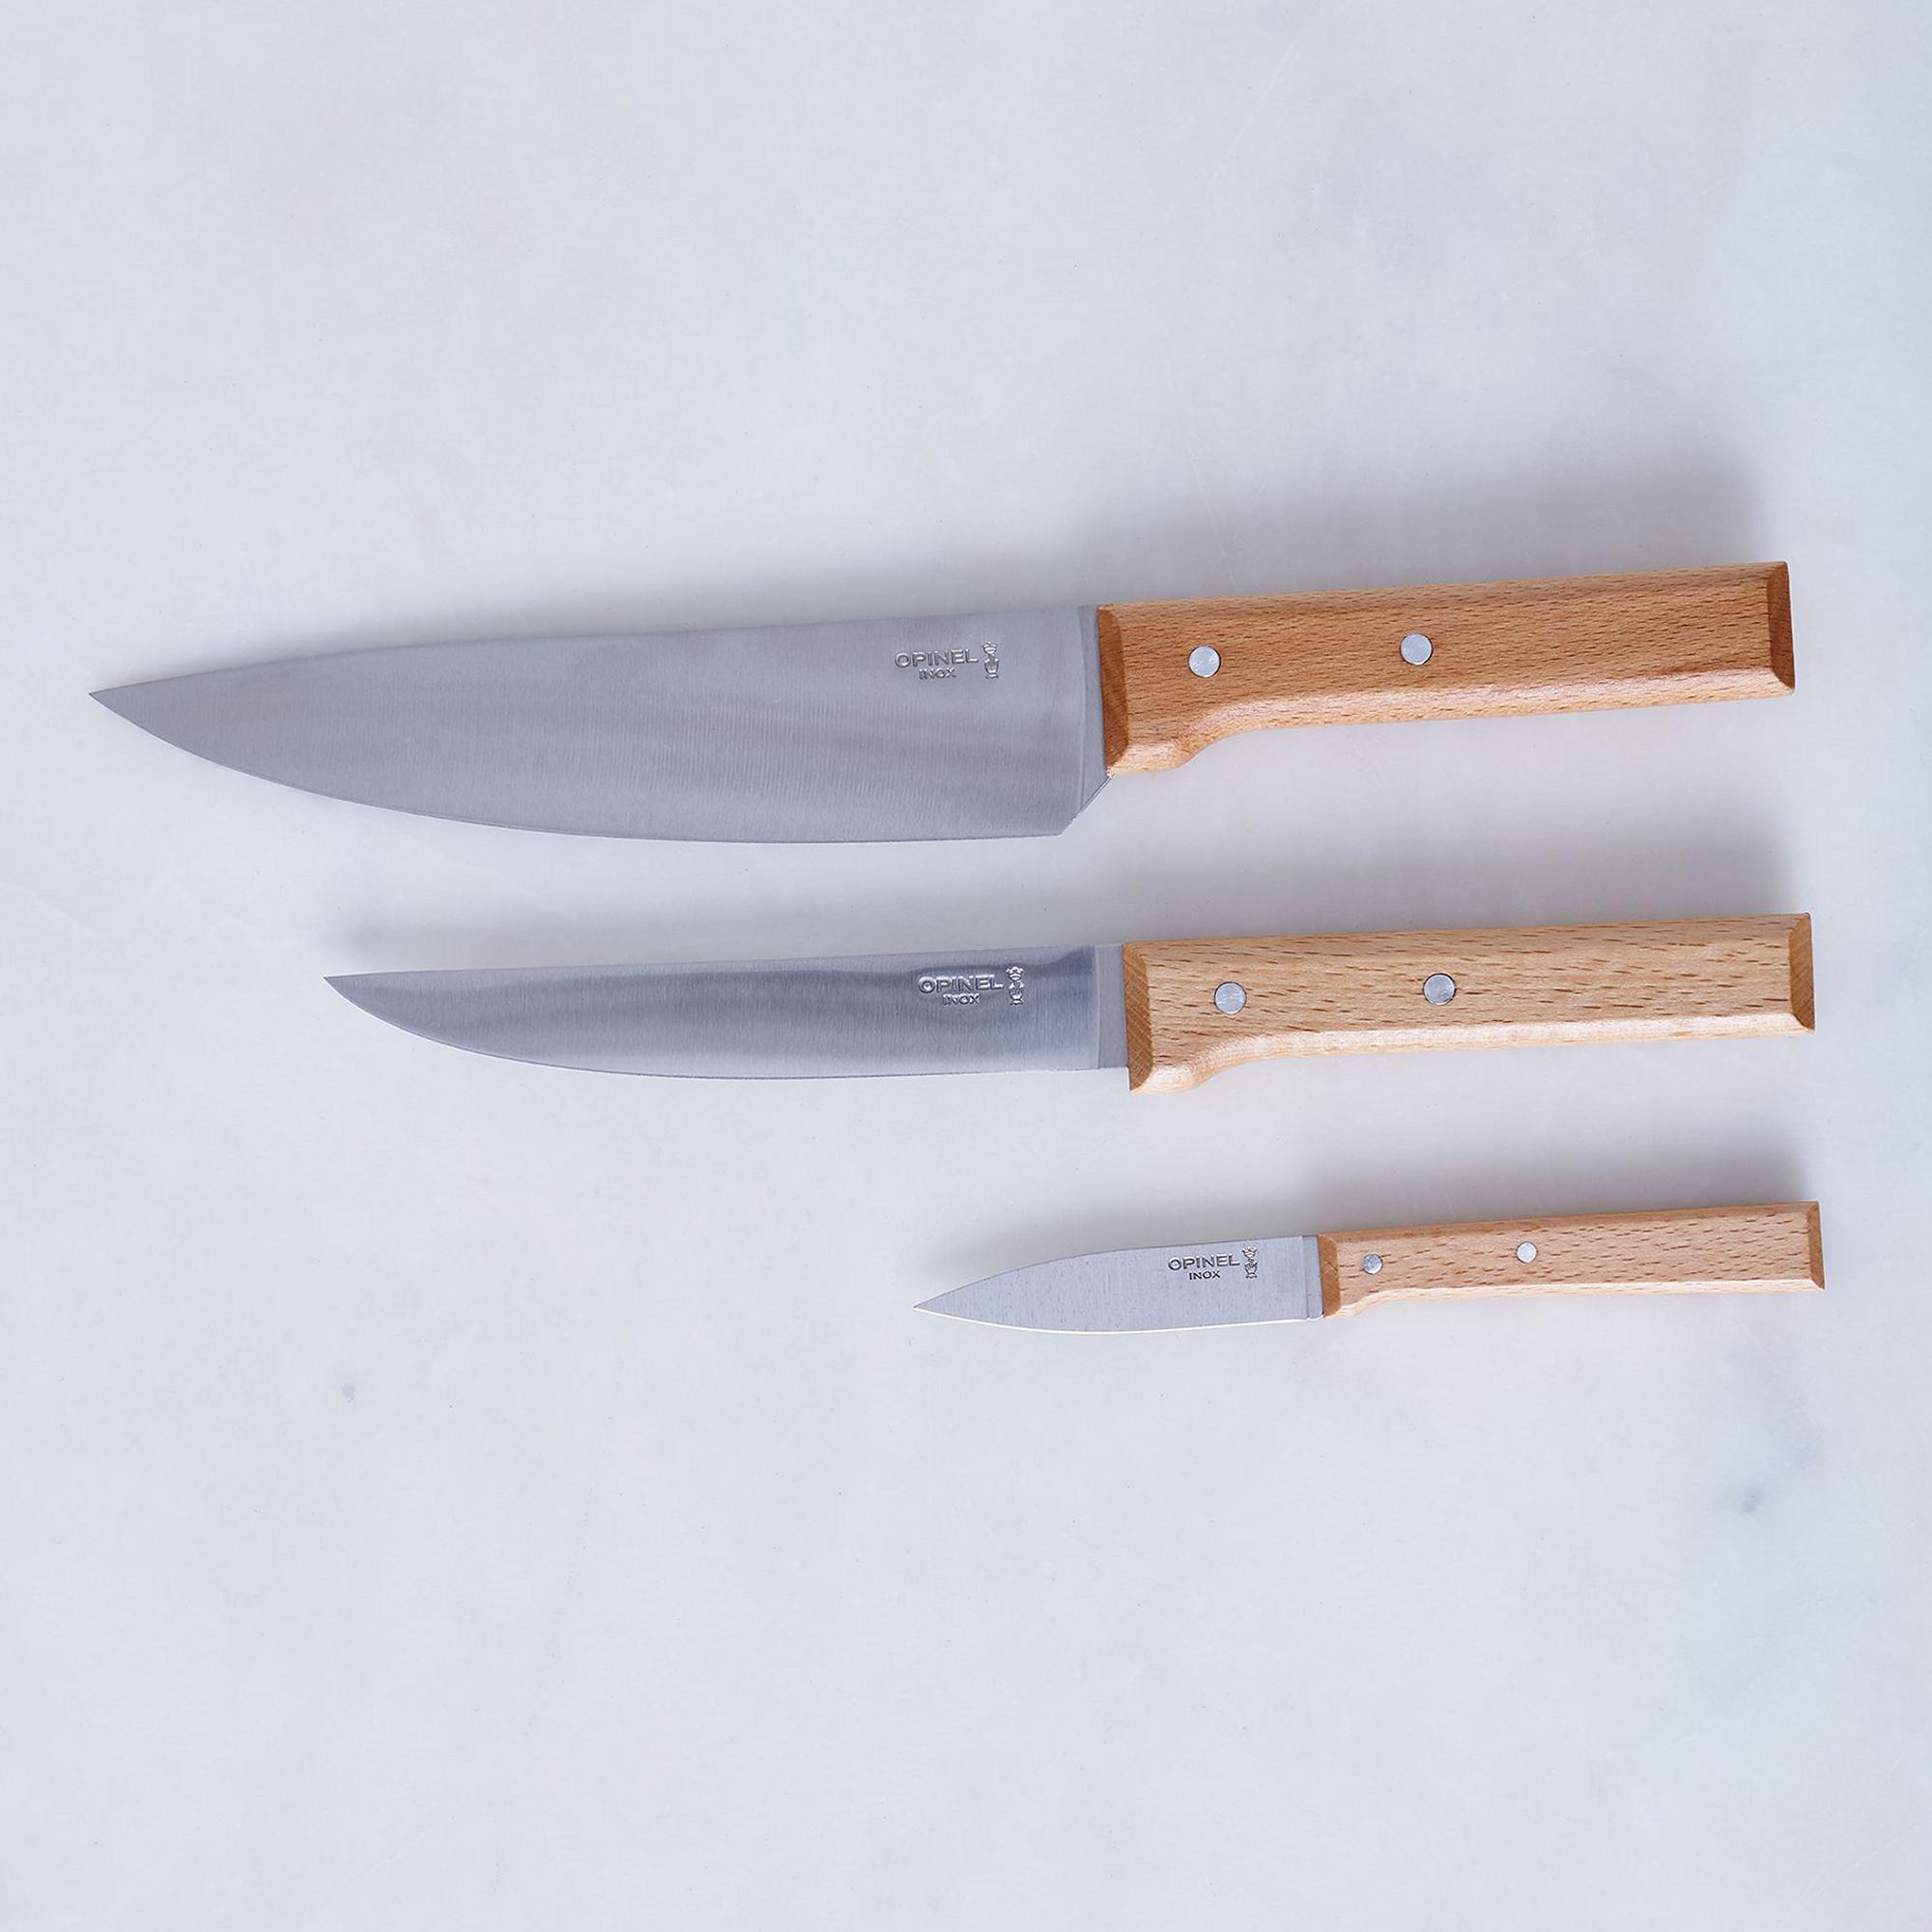knife: (88, 559, 1801, 847), (322, 904, 1819, 1102), (927, 1208, 1833, 1334)
